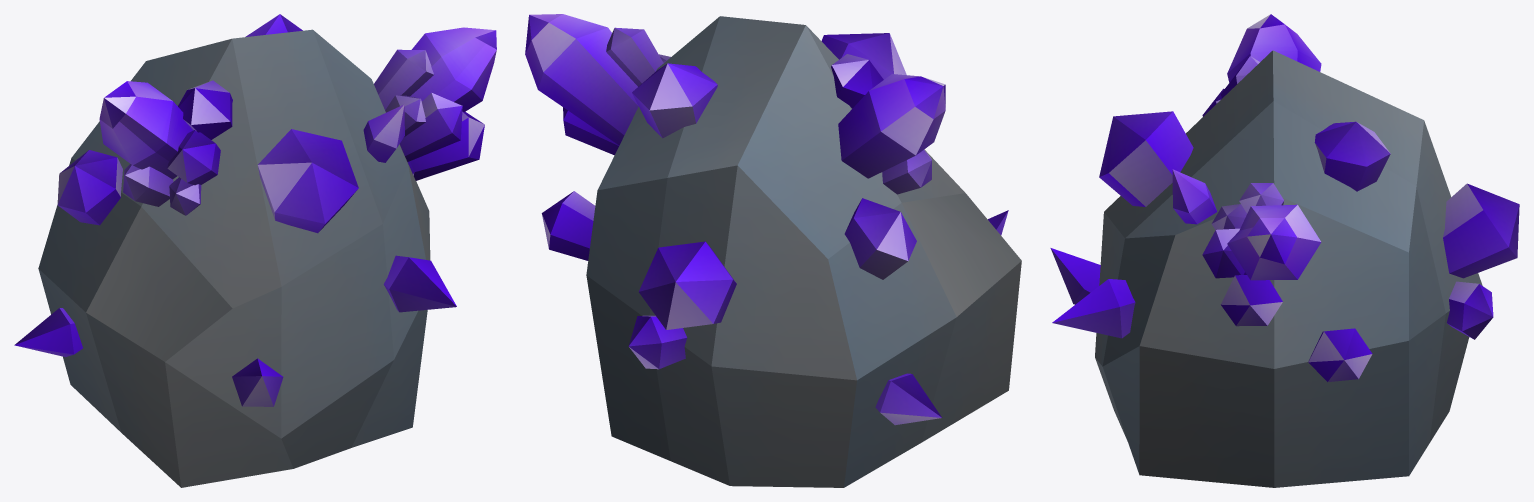
File: Mine_V1.fbx
3 views of the same model, side by side, from view 1: azimuth 30°, elevation 25°; view 2: azimuth 150°, elevation 25°; view 3: azimuth 270°, elevation 25° (orthographic). The views are drawn at different scales.
Parts seen in each view (by area): view 1: Amethyst; view 2: Amethyst; view 3: Amethyst.
Part boxes in pixels (x1,y1,x2,y2): Amethyst: (14,14,496,487); Amethyst: (525,14,1021,487); Amethyst: (1050,14,1519,487).
Bounding box in the file's own units: 376 × 304 × 348.
